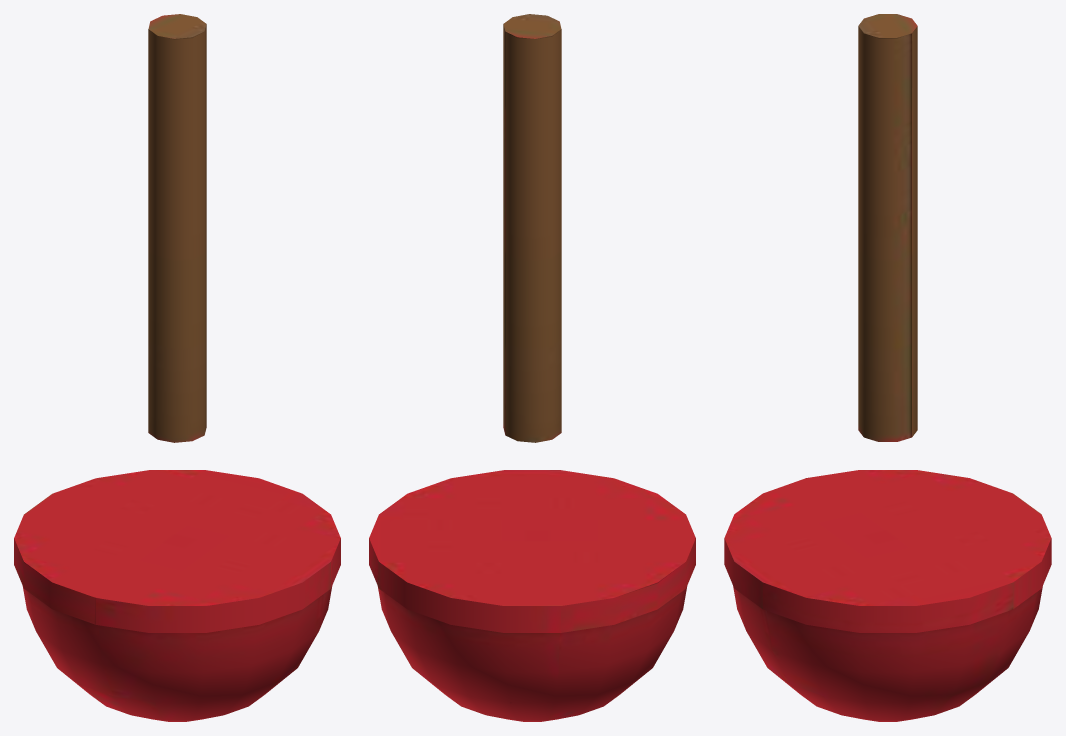
The model's file is desatascador.glb.
The picture shows the model from 3 angles, left to right: view 1: azimuth 30°, elevation 25°; view 2: azimuth 150°, elevation 25°; view 3: azimuth 270°, elevation 25°; orthographic projection.
Parts seen in each view (by area): view 1: desatascador; view 2: desatascador; view 3: desatascador.
Part boxes in pixels (bbox=[...]): desatascador: bbox=[14, 14, 340, 721]; desatascador: bbox=[369, 14, 695, 721]; desatascador: bbox=[724, 14, 1051, 721].
Bounding box in the file's own units: 0.65 × 1.52 × 0.66.
1 material, 1 textured.
